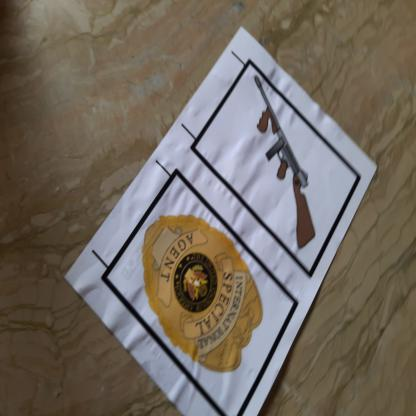Bootlegger: (248, 70, 327, 252)
G-man: (131, 208, 272, 375)
